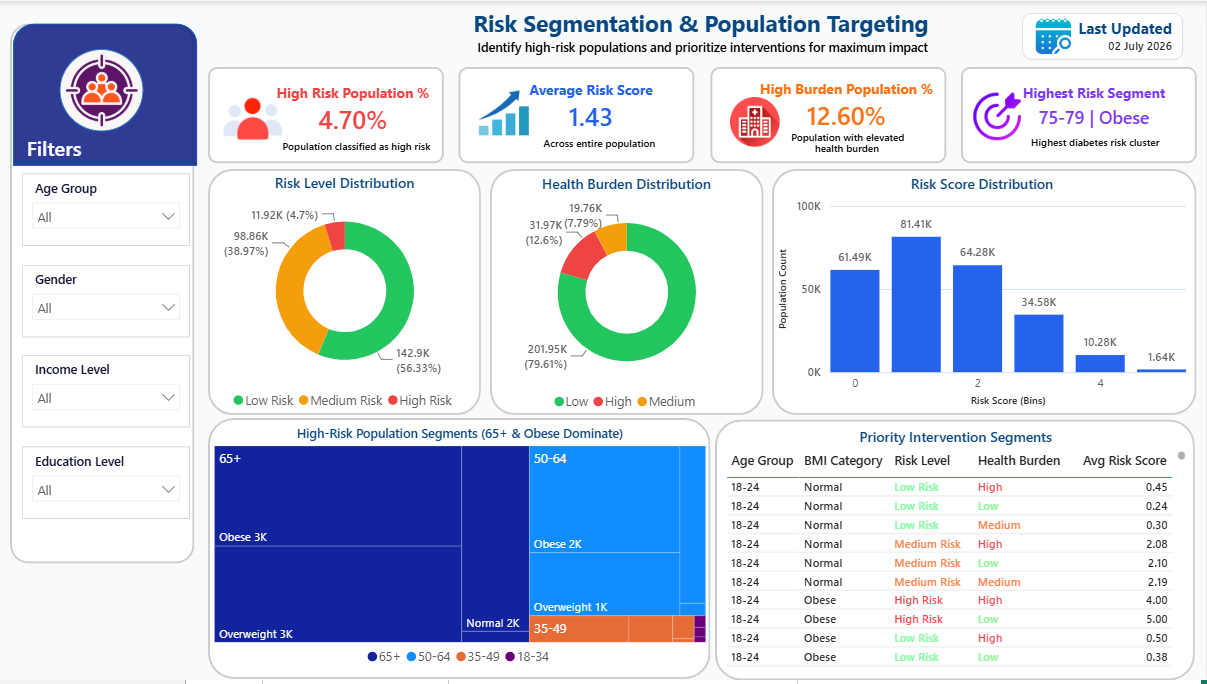

Layout of this report page (visuals, bound fields, positions):
{"tool":"powerbi","page":{"name":"Risk Segmentation & Population Targeting","canvas":[1280,720],"ordinal":4},"visuals":[{"type":"shape","box":[12.7,23.9,195.6,572.6],"z":0},{"type":"cardVisual","fields":{"Data":["diabetes_featuredFinal.High Risk Population %"]},"box":[222.7,70,249.7,101.8],"z":1000},{"type":"cardVisual","fields":{"Data":["diabetes_featuredFinal.Average Risk Score"]},"box":[488.7,70.6,250,101.8],"z":2000},{"type":"cardVisual","fields":{"Data":["diabetes_featuredFinal.High Burden Population %"]},"box":[754.9,70.6,250,101.8],"z":3000},{"type":"cardVisual","fields":{"Data":["diabetes_featuredFinal.Highest Risk Segment"]},"box":[1021.2,70.6,250,101.8],"z":4000},{"type":"image","box":[238.6,93.8,63.6,62],"z":5000},{"type":"image","box":[494.7,90.7,82.7,55.7],"z":6000},{"type":"image","box":[776.2,101.8,52.5,52.5],"z":7000},{"type":"image","box":[1021.2,95.4,76.3,54.1],"z":8000},{"type":"shape","box":[15.9,23.9,195.6,151.1],"z":9000},{"type":"slicer","fields":{"Values":["diabetes_featuredFinal.Age_Group"]},"box":[25.4,182.9,178.1,76.3],"z":10000},{"type":"slicer","fields":{"Values":["diabetes_featuredFinal.Gender"]},"box":[25.4,279.4,178.1,76.3],"z":11000},{"type":"slicer","fields":{"Values":["diabetes_featuredFinal.Income_Level"]},"box":[25.4,375.9,178.1,76.3],"z":12000},{"type":"slicer","fields":{"Values":["diabetes_featuredFinal.Education_Level"]},"box":[25.4,472.4,178.1,76.3],"z":13000},{"type":"textbox","box":[25.4,135.2,82.7,42.9],"z":14000},{"type":"textbox","box":[345.2,1.6,800.1,62],"z":15000},{"type":"textbox","box":[273.6,138.4,213.1,35],"z":16000},{"type":"shape","box":[65.2,50.9,89.1,87.5],"z":17000},{"type":"cardVisual","fields":{"Data":["diabetes_featuredFinal.Last Update"]},"box":[1085.9,12.7,170.2,49.3],"z":18000},{"type":"image","box":[1098.6,12.7,39.8,49.3],"z":19000},{"type":"image","box":[49.3,54.1,120.9,81.1],"z":20000},{"type":"textbox","box":[806.4,128.8,189.3,36.6],"z":21000},{"type":"textbox","box":[1081.6,133.6,163.8,35],"z":22000},{"type":"shape","box":[222.7,178.1,289.5,260.9],"z":23000},{"type":"textbox","box":[523.3,135.2,229,30.2],"z":24000},{"type":"textbox","box":[764.5,140,270.4,28.6],"z":25000},{"type":"shape","box":[521.7,178.1,290,260.9],"z":26000},{"type":"shape","box":[820.8,178.1,450.1,260.9],"z":27000},{"type":"donutChart","title":"Risk Level Distribution","fields":{"Category":["diabetes_featuredFinal.Risk_Level"],"Y":["CountNonNull(diabetes_featuredFinal.Risk_Level)"]},"box":[222.7,176.6,289.5,265.6],"z":28000},{"type":"donutChart","title":"Health Burden Distribution","fields":{"Category":["diabetes_featuredFinal.Health_Burden_Category"],"Y":["CountNonNull(diabetes_featuredFinal.Health_Burden_Category)"]},"box":[521.7,178.1,289.5,265.6],"z":29000},{"type":"clusteredColumnChart","title":"Risk Score Distribution","fields":{"Category":["diabetes_featuredFinal.Risk_Score (bins)"],"Y":["CountNonNull(diabetes_featuredFinal.Risk_Score)"]},"box":[822.3,182.9,442.2,251.3],"z":30000},{"type":"shape","box":[222.7,442.2,532.9,276.8],"z":31000},{"type":"shape","title":"Top High-Risk Population Segment","box":[760.3,443.2,509,276.8],"z":32000},{"type":"treemap","title":"High-Risk Population Segments (65+ & Obese Dominate)","fields":{"Group":["diabetes_featuredFinal.Age_Segment"],"Details":["diabetes_featuredFinal.BMI_category"],"Values":["diabetes_featuredFinal.High Risk Count"]},"box":[224.3,448.6,531.3,265.6],"z":33000},{"type":"tableEx","title":"Priority Intervention Segments","fields":{"Values":["diabetes_featuredFinal.Age_Group","diabetes_featuredFinal.BMI_category","diabetes_featuredFinal.Risk_Level","diabetes_featuredFinal.Health_Burden_Category","Avg(diabetes_featuredFinal.Risk_Score)"]},"box":[766.7,451.7,497.9,259.3],"z":34000}]}

Visuals, with their boxes in screenshot pixels (x1, y1, x2, y2), scaled from the page's 1280x720 canvas onto the 1207x684 screenshot:
shape: bbox=[12, 23, 196, 567]
cardVisual - diabetes_featuredFinal.High Risk Population %: bbox=[210, 66, 445, 163]
cardVisual - diabetes_featuredFinal.Average Risk Score: bbox=[461, 67, 697, 164]
cardVisual - diabetes_featuredFinal.High Burden Population %: bbox=[712, 67, 948, 164]
cardVisual - diabetes_featuredFinal.Highest Risk Segment: bbox=[963, 67, 1199, 164]
image: bbox=[225, 89, 285, 148]
image: bbox=[466, 86, 544, 139]
image: bbox=[732, 97, 781, 147]
image: bbox=[963, 91, 1035, 142]
shape: bbox=[15, 23, 199, 166]
slicer - diabetes_featuredFinal.Age_Group: bbox=[24, 174, 192, 246]
slicer - diabetes_featuredFinal.Gender: bbox=[24, 265, 192, 338]
slicer - diabetes_featuredFinal.Income_Level: bbox=[24, 357, 192, 430]
slicer - diabetes_featuredFinal.Education_Level: bbox=[24, 449, 192, 521]
textbox: bbox=[24, 128, 102, 169]
textbox: bbox=[326, 2, 1080, 60]
textbox: bbox=[258, 131, 459, 165]
shape: bbox=[61, 48, 146, 131]
cardVisual - diabetes_featuredFinal.Last Update: bbox=[1024, 12, 1184, 59]
image: bbox=[1036, 12, 1073, 59]
image: bbox=[46, 51, 160, 128]
textbox: bbox=[760, 122, 939, 157]
textbox: bbox=[1020, 127, 1174, 160]
shape: bbox=[210, 169, 483, 417]
textbox: bbox=[493, 128, 709, 157]
textbox: bbox=[721, 133, 976, 160]
shape: bbox=[492, 169, 765, 417]
shape: bbox=[774, 169, 1198, 417]
"Risk Level Distribution" donutChart: bbox=[210, 168, 483, 420]
"Health Burden Distribution" donutChart: bbox=[492, 169, 765, 422]
"Risk Score Distribution" clusteredColumnChart: bbox=[775, 174, 1192, 412]
shape: bbox=[210, 420, 713, 683]
"Top High-Risk Population Segment" shape: bbox=[717, 421, 1197, 683]
"High-Risk Population Segments (65+ & Obese Dominate)" treemap: bbox=[212, 426, 713, 678]
"Priority Intervention Segments" tableEx: bbox=[723, 429, 1192, 675]
